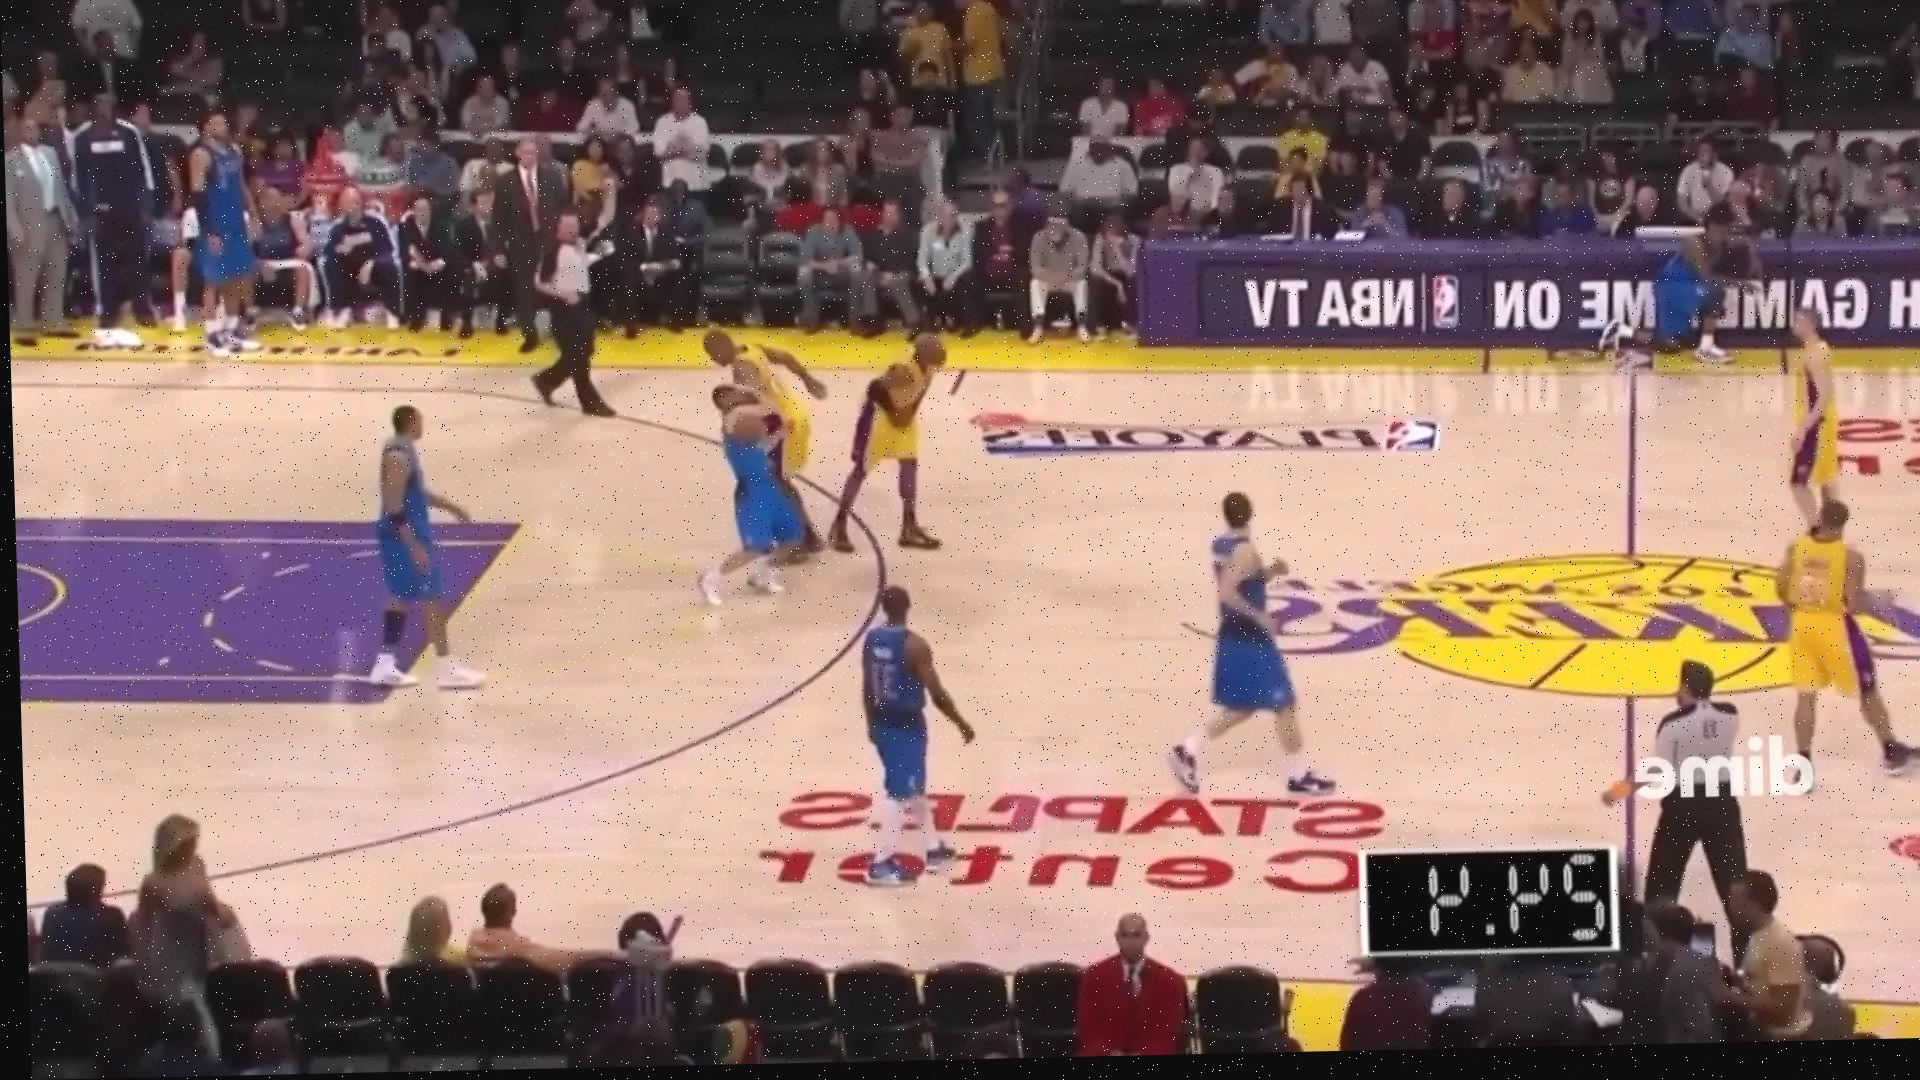foul: (679, 319, 845, 607)
